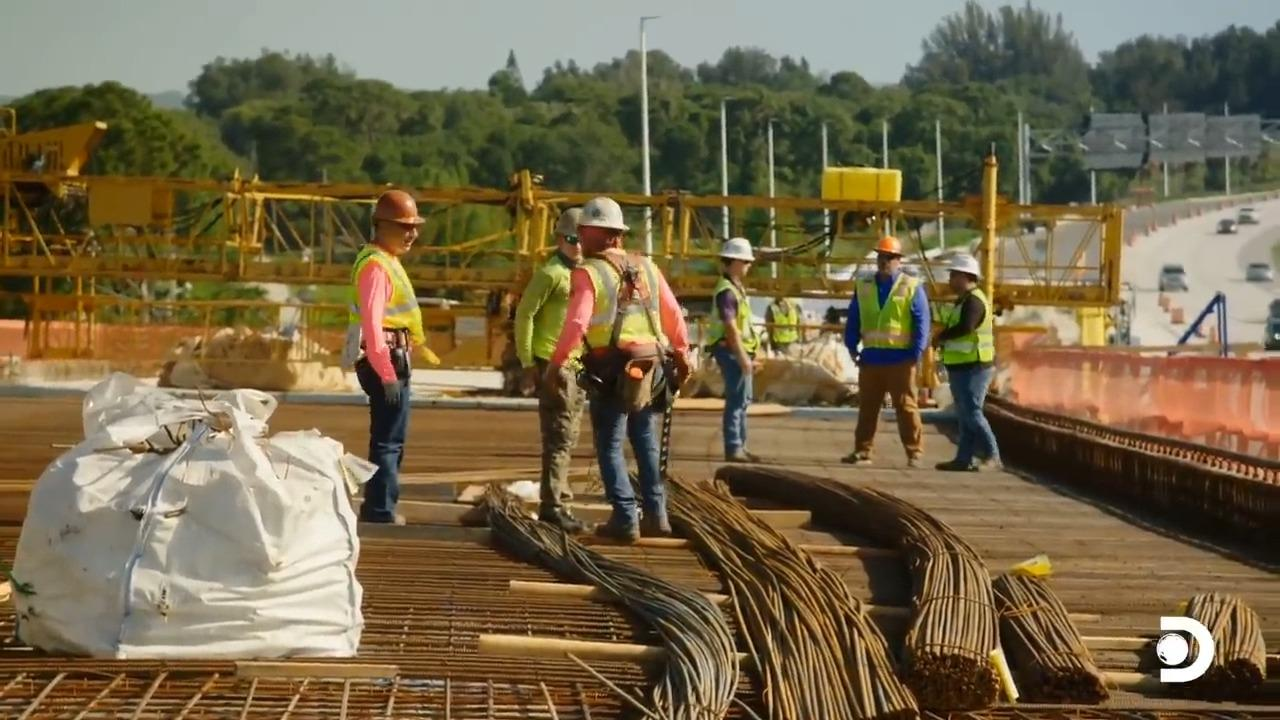Gloves: (383, 377, 402, 403)
Helmet: (371, 189, 426, 225), (577, 196, 629, 231), (944, 253, 981, 280), (717, 236, 755, 262), (553, 207, 582, 237), (872, 235, 904, 256)
Person: (543, 196, 691, 541), (340, 189, 440, 525), (512, 206, 592, 534), (840, 235, 930, 468), (929, 252, 1004, 471), (702, 236, 764, 462), (763, 293, 802, 358)
Safety Boot: (546, 509, 583, 535), (593, 524, 640, 538), (647, 514, 673, 536), (935, 460, 970, 474), (841, 451, 872, 465), (971, 459, 998, 471), (904, 454, 917, 469)
Safety Vest: (594, 272, 663, 348), (355, 260, 417, 330), (855, 287, 910, 349), (713, 290, 752, 349), (948, 308, 989, 360)
bare-arms: (735, 354, 759, 374)
no-vest: (534, 265, 576, 354)
